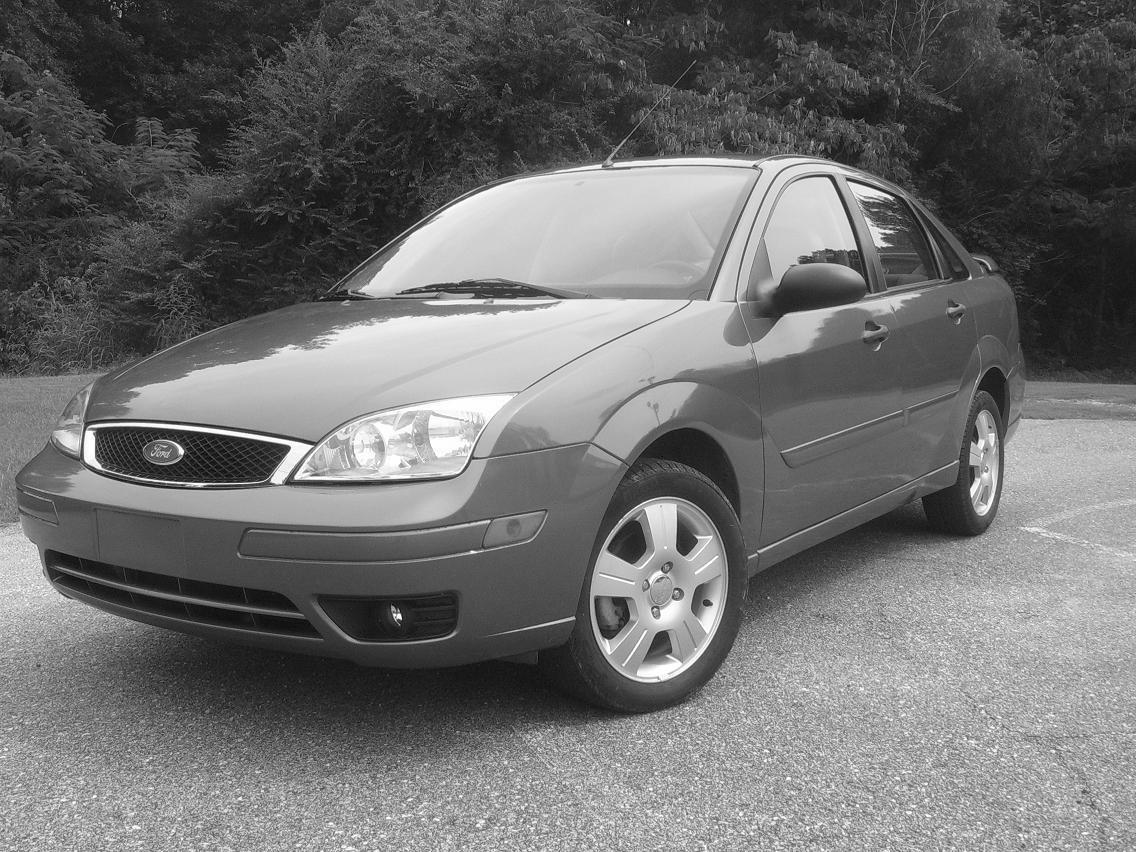car: (20, 146, 1021, 712)
